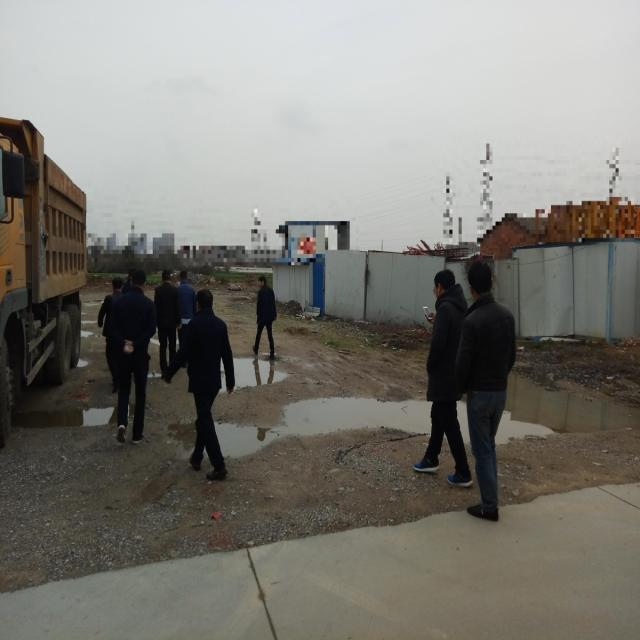truck: (0, 115, 86, 447)
